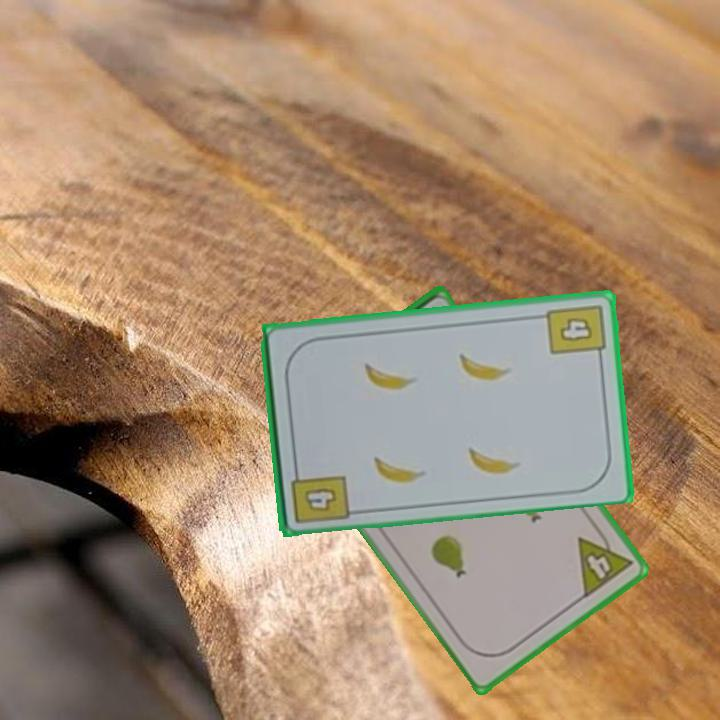4b: (287, 461, 352, 527), (543, 300, 608, 364)
4p: (574, 521, 636, 601)
